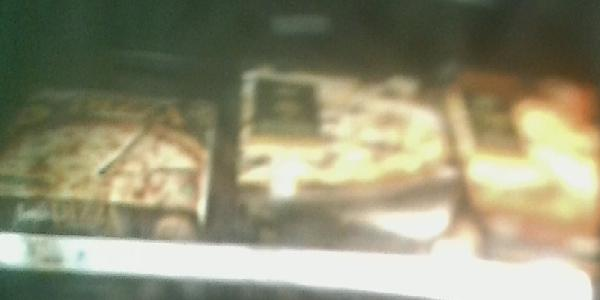pizza1: (232, 59, 463, 254), (1, 86, 223, 239), (449, 62, 594, 247)
